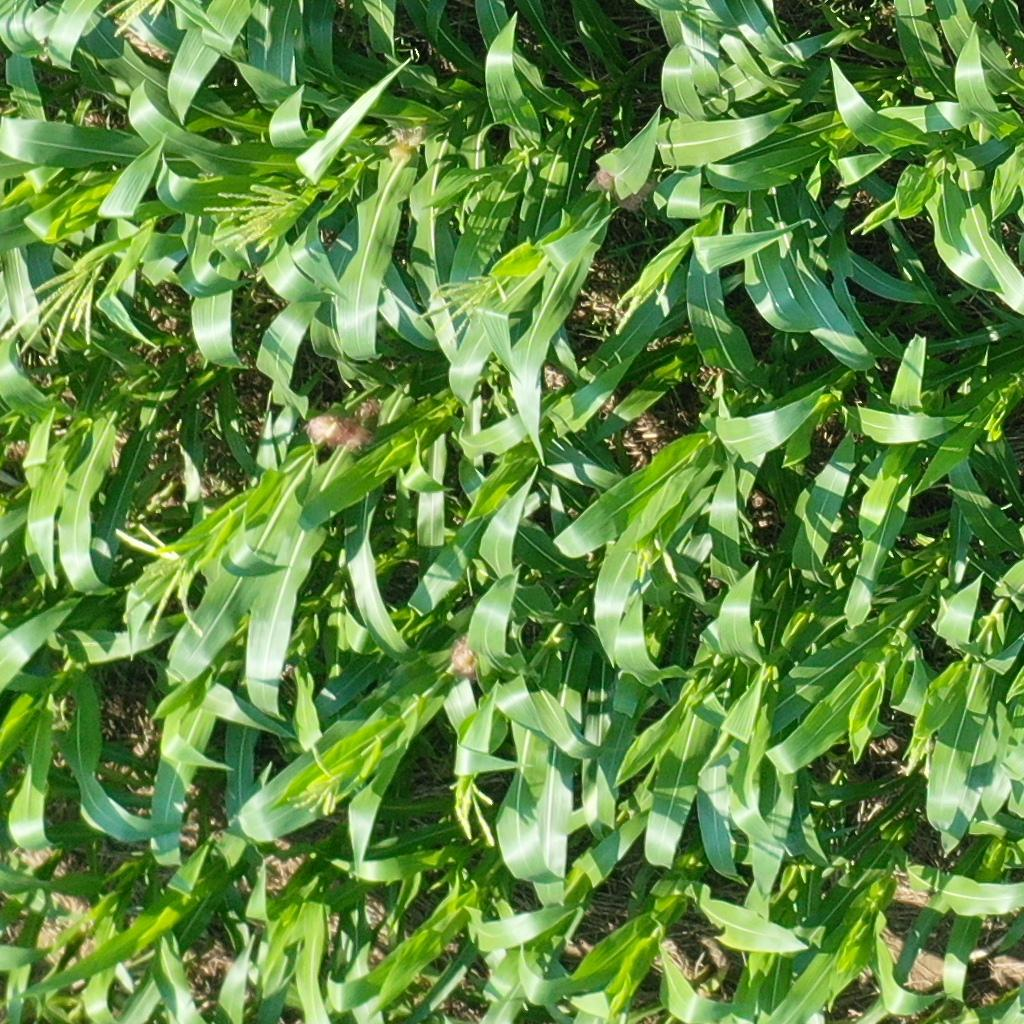Tassel: (1, 249, 107, 370), (115, 523, 207, 649), (195, 175, 301, 256), (417, 267, 515, 344), (283, 745, 344, 818), (613, 269, 674, 336), (448, 770, 500, 848), (103, 1, 167, 41), (630, 533, 681, 583), (894, 728, 934, 783), (850, 212, 877, 236)
